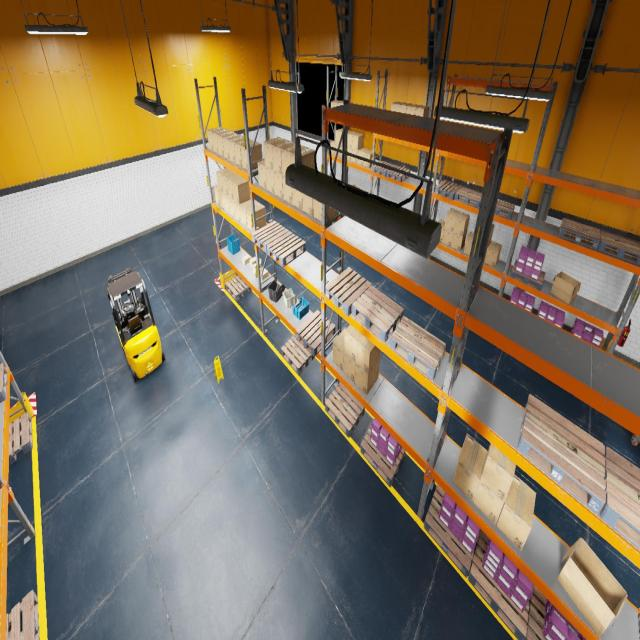box: (557, 538, 628, 637), (496, 474, 536, 551), (452, 433, 488, 502), (473, 451, 504, 524), (480, 443, 516, 503), (550, 271, 580, 304), (354, 358, 380, 395), (356, 335, 380, 374), (272, 140, 295, 174), (281, 144, 305, 176), (264, 137, 286, 170), (344, 324, 362, 362), (240, 141, 262, 170), (246, 202, 266, 232), (313, 199, 338, 222), (234, 138, 254, 166), (333, 328, 346, 371), (291, 147, 315, 169), (222, 133, 241, 160), (240, 199, 258, 227), (217, 131, 235, 157), (232, 178, 250, 204), (484, 241, 502, 267), (212, 129, 230, 154), (453, 211, 470, 236), (226, 174, 242, 200), (207, 127, 224, 151), (228, 136, 243, 163), (221, 170, 236, 196), (444, 208, 460, 232), (344, 352, 356, 383), (216, 168, 231, 192), (451, 231, 467, 251), (282, 176, 292, 204), (273, 171, 283, 199), (302, 193, 313, 216), (363, 150, 376, 168), (258, 160, 266, 189), (464, 232, 474, 255), (266, 166, 274, 194), (292, 188, 302, 210), (357, 148, 369, 166), (352, 133, 364, 150), (442, 228, 453, 246), (347, 132, 358, 148), (341, 130, 352, 146), (415, 106, 429, 118), (487, 224, 494, 247), (438, 220, 445, 242), (406, 104, 421, 114), (234, 201, 241, 222), (223, 194, 230, 214), (398, 103, 412, 113), (390, 102, 404, 112), (218, 190, 225, 209), (214, 184, 220, 206), (484, 241, 490, 262), (229, 197, 235, 217), (252, 258, 262, 269), (252, 267, 262, 277), (260, 268, 268, 280), (352, 148, 358, 164), (242, 254, 251, 264), (336, 129, 342, 144), (331, 100, 342, 107), (330, 140, 335, 155), (249, 256, 256, 266), (335, 143, 340, 157), (347, 148, 351, 161), (336, 101, 343, 106), (352, 184, 360, 188), (340, 145, 342, 158)
forklift: (106, 266, 164, 382)
pallets: (517, 394, 605, 514), (468, 530, 530, 640), (424, 484, 474, 577), (600, 447, 640, 550), (390, 316, 446, 380), (352, 285, 404, 342), (360, 426, 405, 486), (326, 267, 372, 316), (325, 382, 365, 437), (296, 310, 336, 356), (6, 590, 39, 640), (598, 230, 640, 265), (267, 231, 305, 267), (281, 334, 314, 375), (559, 217, 600, 249), (8, 412, 32, 466), (523, 585, 546, 639), (252, 221, 288, 253), (510, 260, 545, 290), (225, 275, 252, 301), (455, 186, 482, 208), (435, 180, 462, 200), (386, 165, 411, 182), (372, 160, 395, 177), (494, 200, 514, 219), (0, 363, 7, 402)
